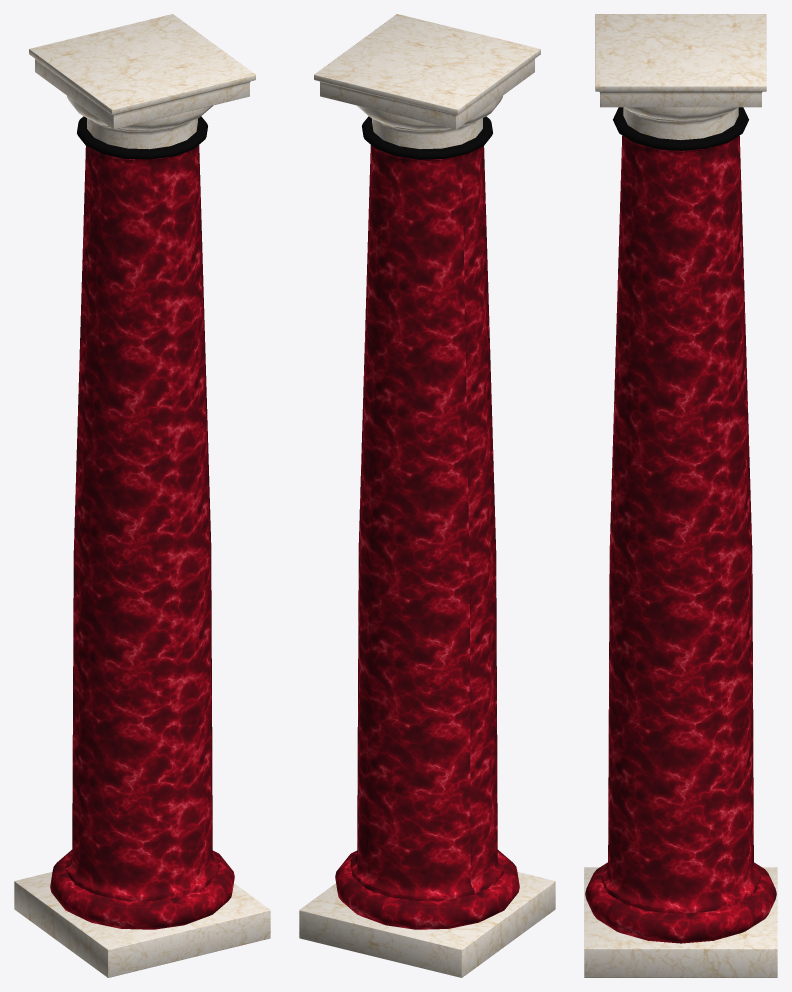
The model's file is tuscanColumn_marbleR.fbx.
3 views of the same model, side by side, from view 1: azimuth 30°, elevation 25°; view 2: azimuth 150°, elevation 25°; view 3: azimuth 270°, elevation 25° (orthographic). The views are drawn at different scales.
Parts seen in each view (by area): view 1: shaft, abacus, plinth, torus, collarino, astragal, ovolo; view 2: shaft, abacus, plinth, torus, collarino, astragal, ovolo; view 3: shaft, abacus, plinth, torus, collarino, astragal, ovolo.
Part boxes in pixels (x1,y1,x2,y2): shaft: (65, 145, 219, 900); abacus: (29, 14, 255, 129); plinth: (14, 872, 270, 977); torus: (50, 850, 234, 929); collarino: (87, 118, 197, 149); astragal: (77, 116, 207, 159); ovolo: (67, 96, 213, 130); shaft: (350, 145, 504, 900); abacus: (314, 14, 540, 129); plinth: (299, 872, 555, 977); torus: (335, 850, 519, 929); collarino: (372, 118, 482, 149); astragal: (362, 116, 492, 159); ovolo: (356, 96, 502, 130); shaft: (601, 135, 760, 913); abacus: (595, 14, 766, 107); plinth: (584, 867, 777, 977); torus: (585, 862, 776, 943); collarino: (623, 107, 738, 139); astragal: (613, 107, 748, 150); ovolo: (624, 107, 737, 120).
Size of the model in its own units: 1.8 by 9.1 by 1.8.
Materials: 3 (2 with a texture image).
